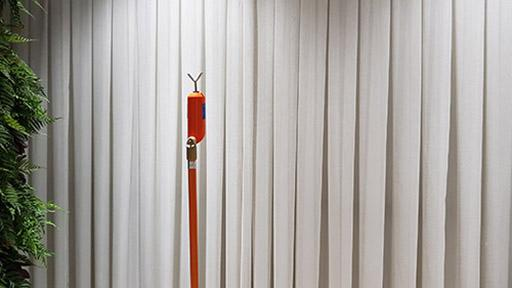Detector_Tensao_Contato: (186, 70, 207, 148)
Vara_Manobra: (185, 139, 199, 288)
